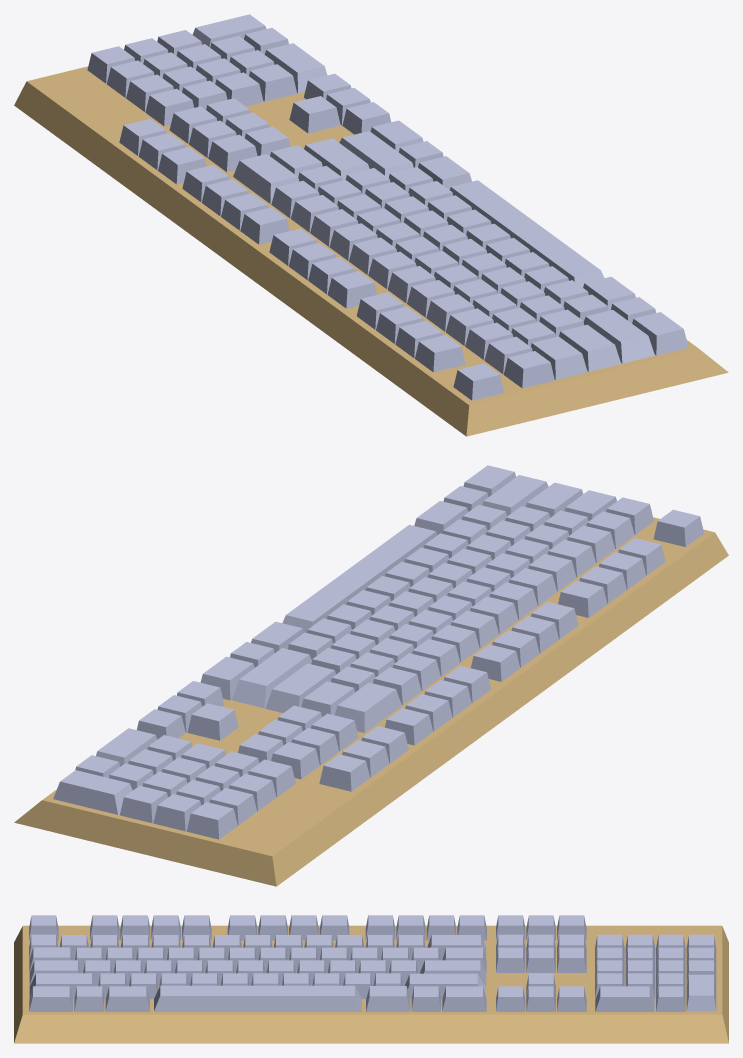
The model's file is Toetsenbord II.fbx.
3 renders of one model, top to bottom at view 1: azimuth 30°, elevation 25°; view 2: azimuth 150°, elevation 25°; view 3: azimuth 270°, elevation 25°, orthographic. The views are drawn at different scales.
Visible parts, largest first — view 1: Plane.030; view 2: Plane.030; view 3: Plane.030.
Boxes of the visible parts, x1,y1,x2,y2 form: Plane.030: (14, 14, 728, 436); Plane.030: (14, 465, 728, 886); Plane.030: (14, 915, 728, 1043).
Size of the model in its own units: 39.18 by 6.14 by 117.
